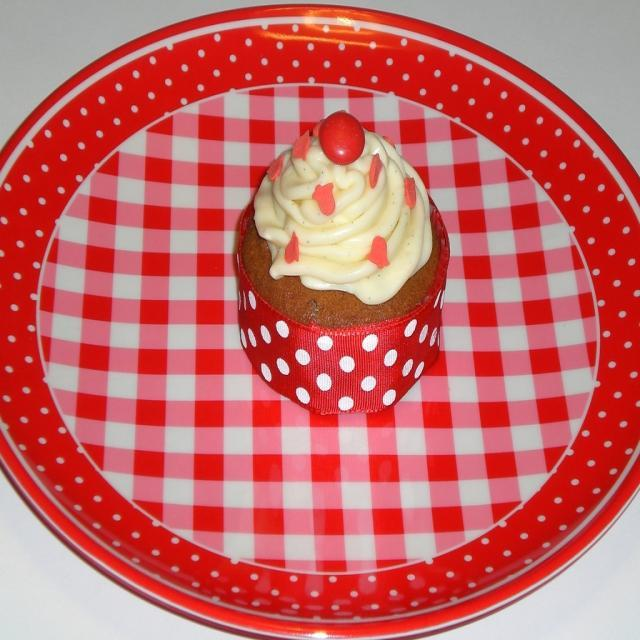Muffin: (237, 116, 449, 406)
